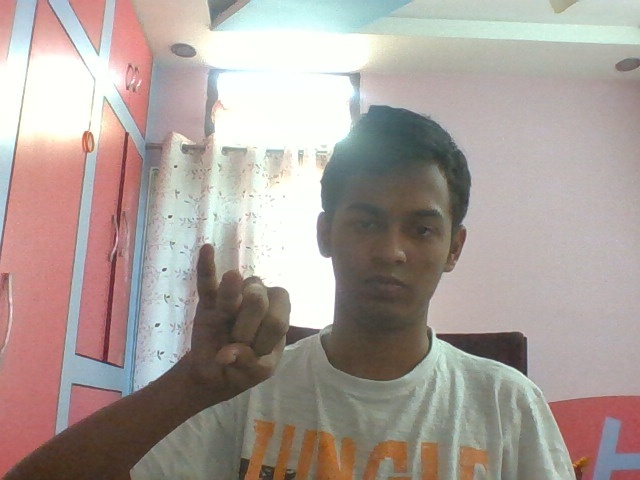No: (169, 236, 310, 417)
